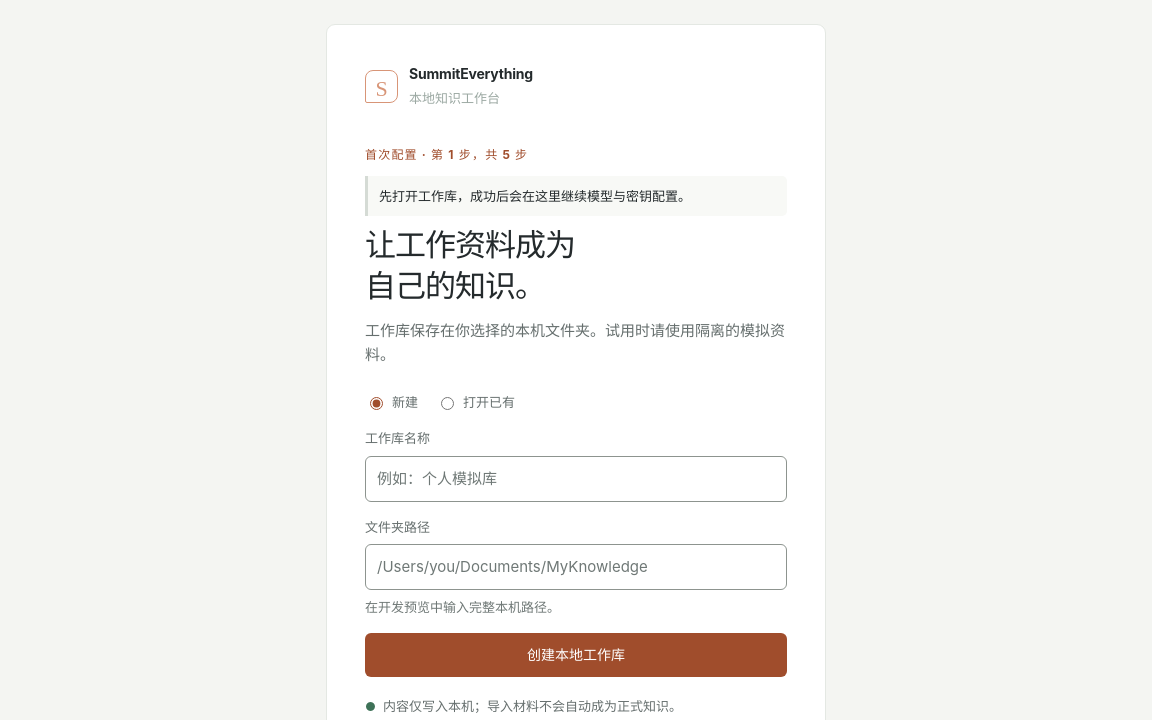
Test: 已完成的首次配置：打开同一工作库直接进入今日，不再弹向导
The width and height of the screenshot is (1152, 720).
Click the radio button labelled "打开已有": (448, 404) [441, 398, 454, 410]
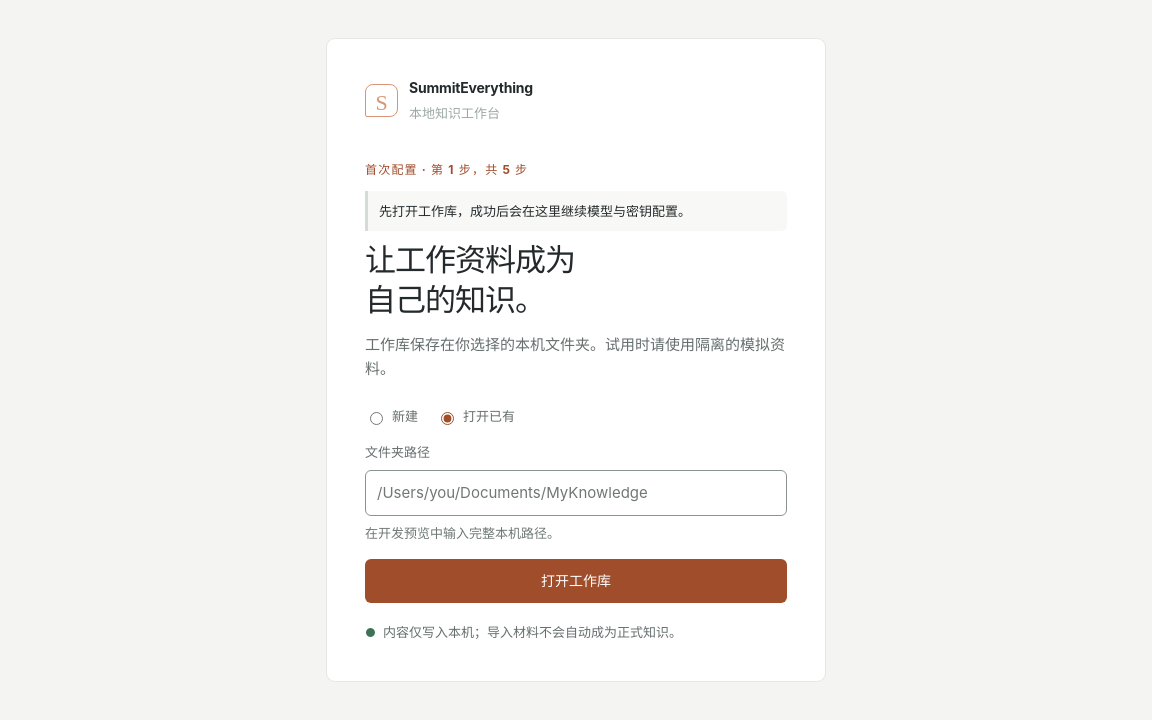
In the field labelled "文件夹路径": (576, 493) [365, 470, 787, 516], type "/tmp/workspace"
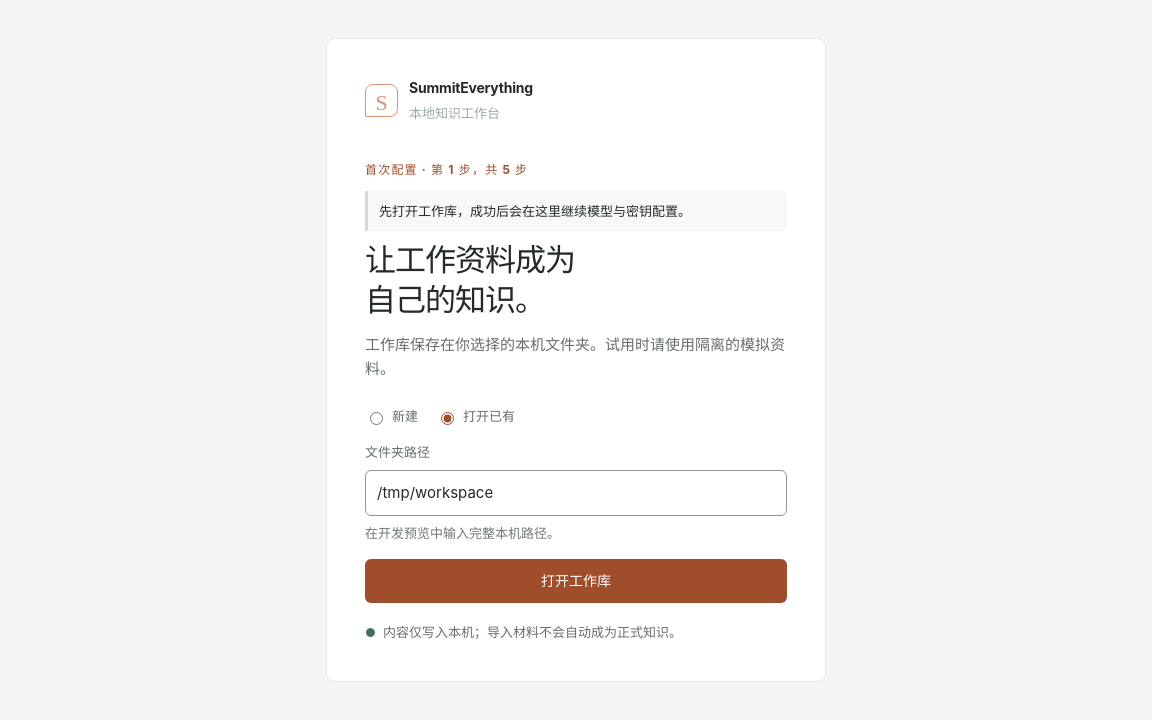
Click the button "打开工作库": (576, 581) [365, 559, 787, 603]
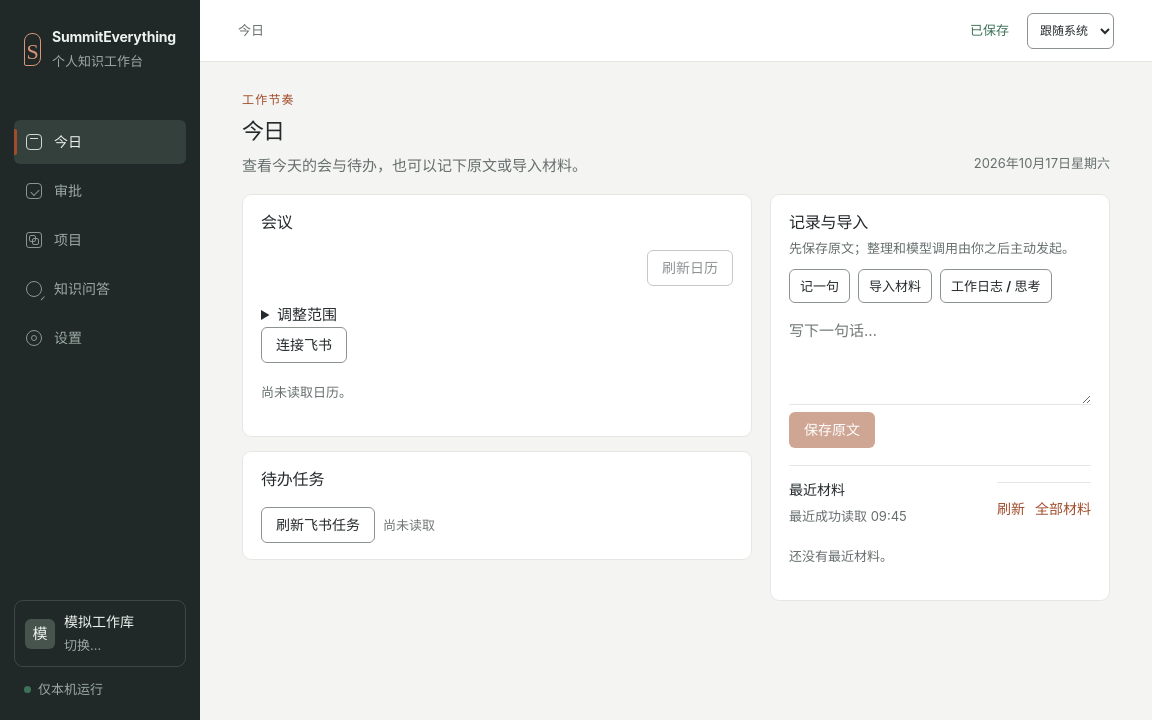
Now the heading "今日" is shown, box [242, 118, 284, 144]
